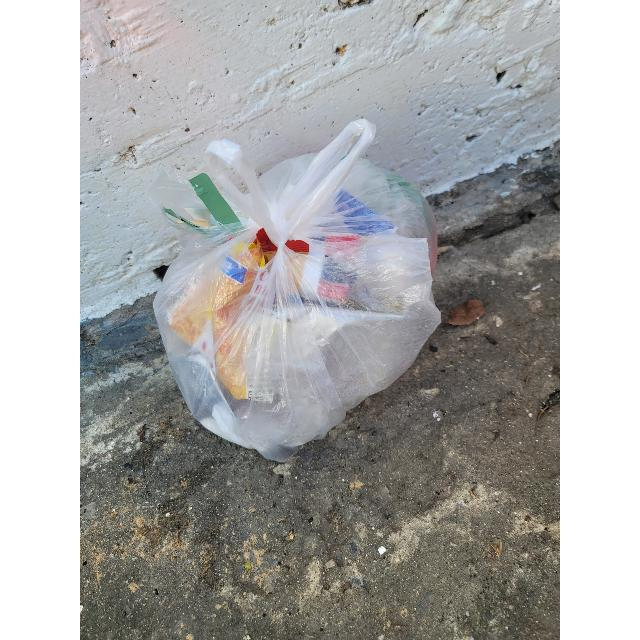other_trashbag: (157, 134, 435, 458)
